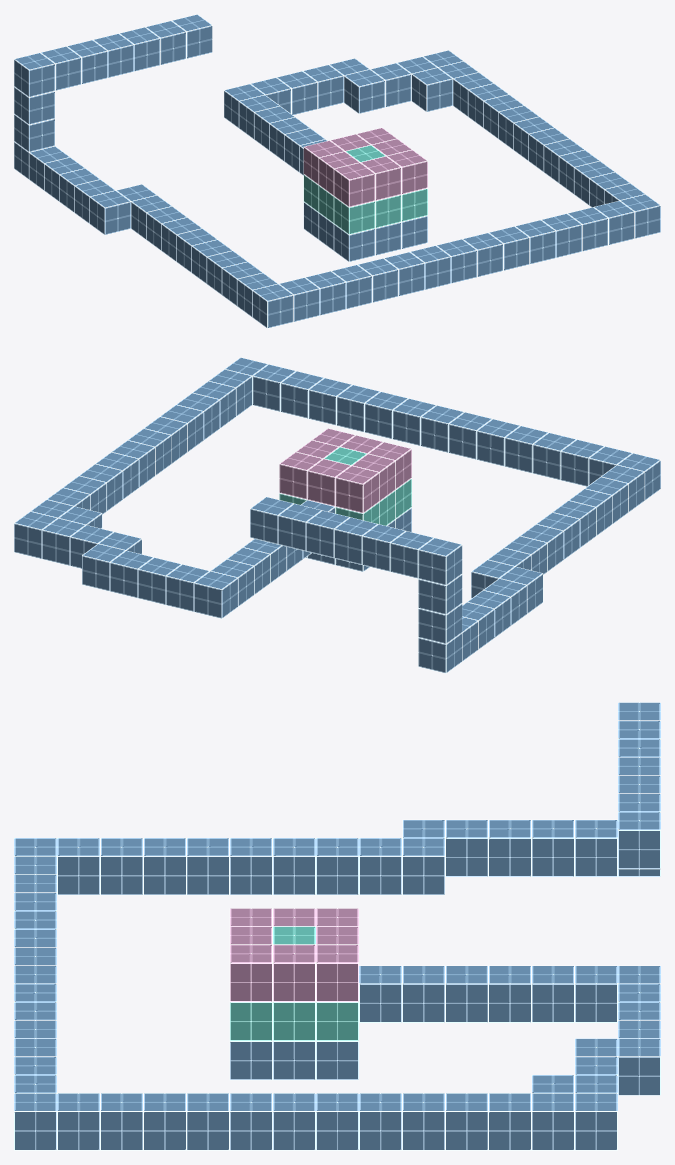
File: testingvoxels.glb
3 views of the same model, one above another, from view 1: azimuth 30°, elevation 25°; view 2: azimuth 150°, elevation 25°; view 3: azimuth 270°, elevation 25° (orthographic). The views are drawn at different scales.
Size of the model in its own units: 16 by 5 by 15.
